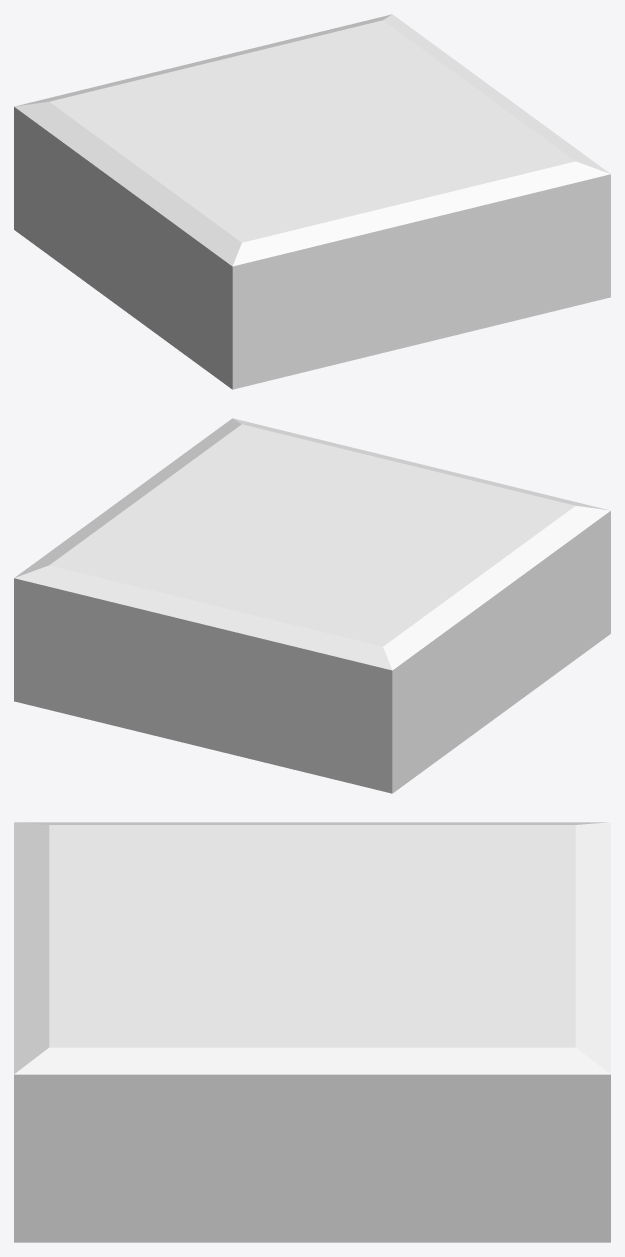
Rendered from Floor.glb.
3 renders of one model, top to bottom at view 1: azimuth 30°, elevation 25°; view 2: azimuth 150°, elevation 25°; view 3: azimuth 270°, elevation 25°, orthographic. The views are drawn at different scales.
Parts seen in each view (by area): view 1: Cube; view 2: Cube; view 3: Cube.
Part boxes in pixels (box(x1,y1,x2,y2)): Cube: box(14, 14, 610, 389); Cube: box(14, 418, 610, 793); Cube: box(14, 822, 610, 1242).
Bounding box in the file's own units: 3 × 1 × 3.
Materials: 1 (1 with a texture image).
